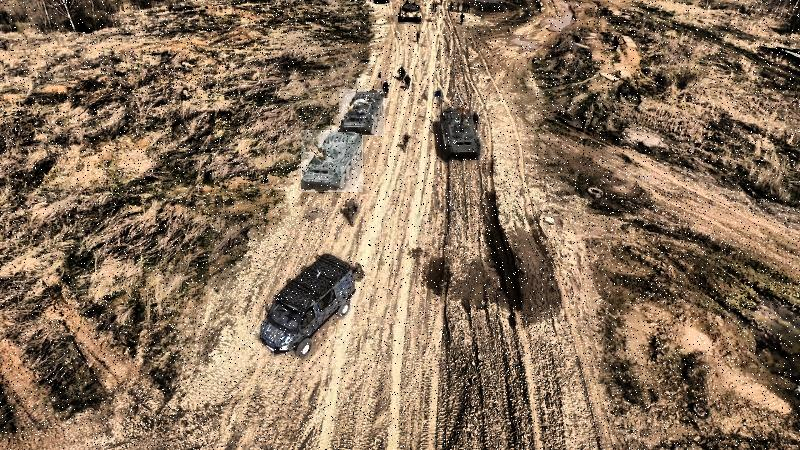military-vehicle: (302, 131, 364, 193), (439, 106, 481, 161), (340, 89, 386, 136), (399, 4, 424, 24)
